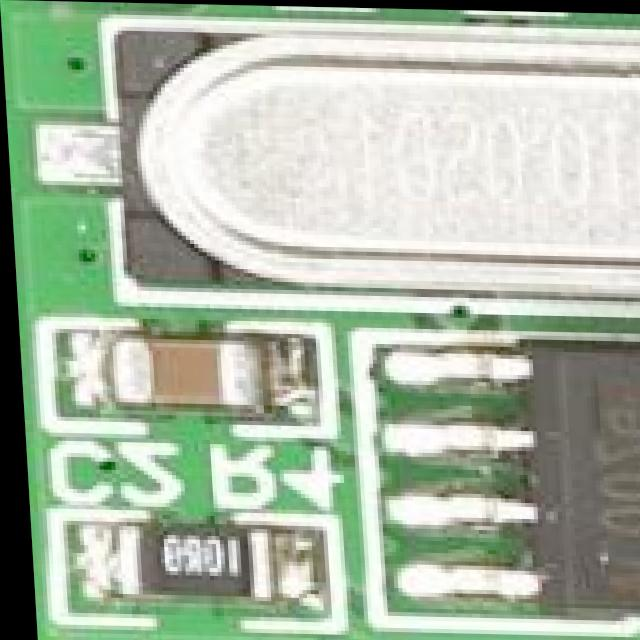IC: (396, 347, 640, 603)
capacitor: (95, 321, 295, 413)
clock: (94, 42, 640, 287)
resistor: (64, 527, 300, 601)
